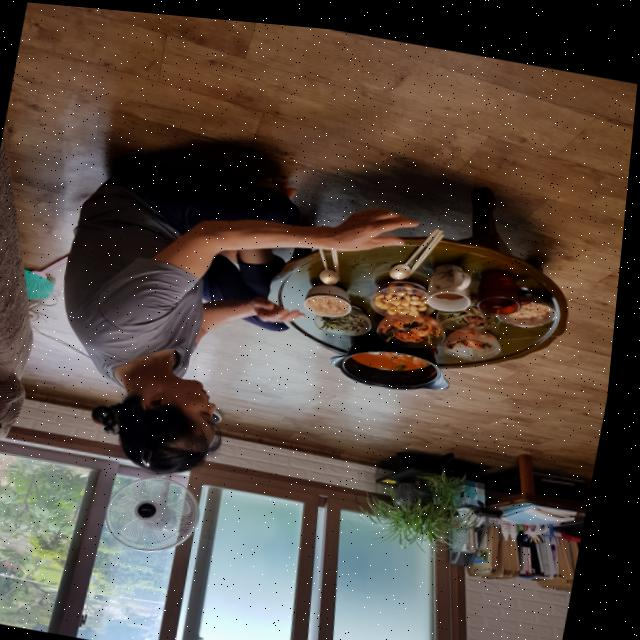eating-person: (32, 142, 431, 516)
